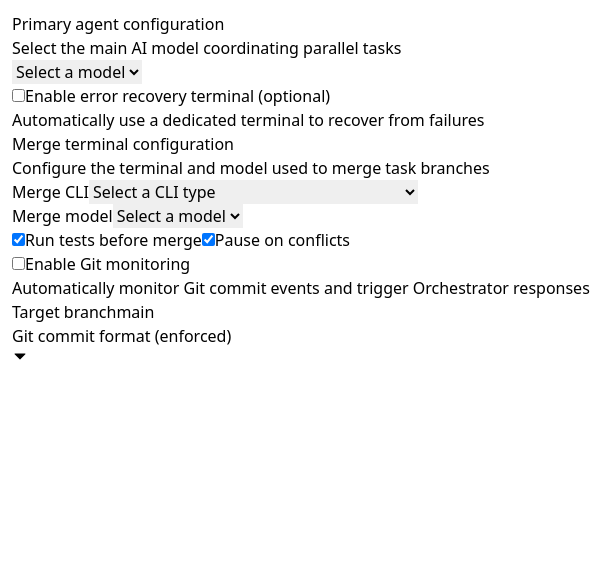
it: Step6Advanced › Git Commit Format › should display Git commit format template
Click the button "Git commit format (enforced)".
click(122, 344)  # box [12,324,231,364]
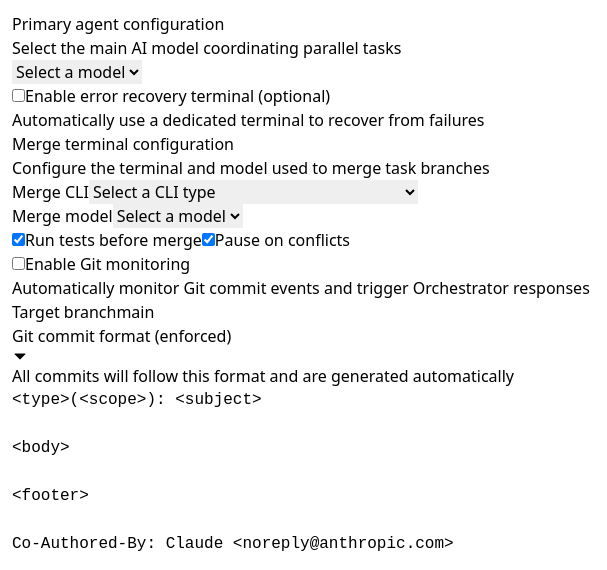
Check: the text "Co-Authored-By:" is shown, box [12,391,454,553]
